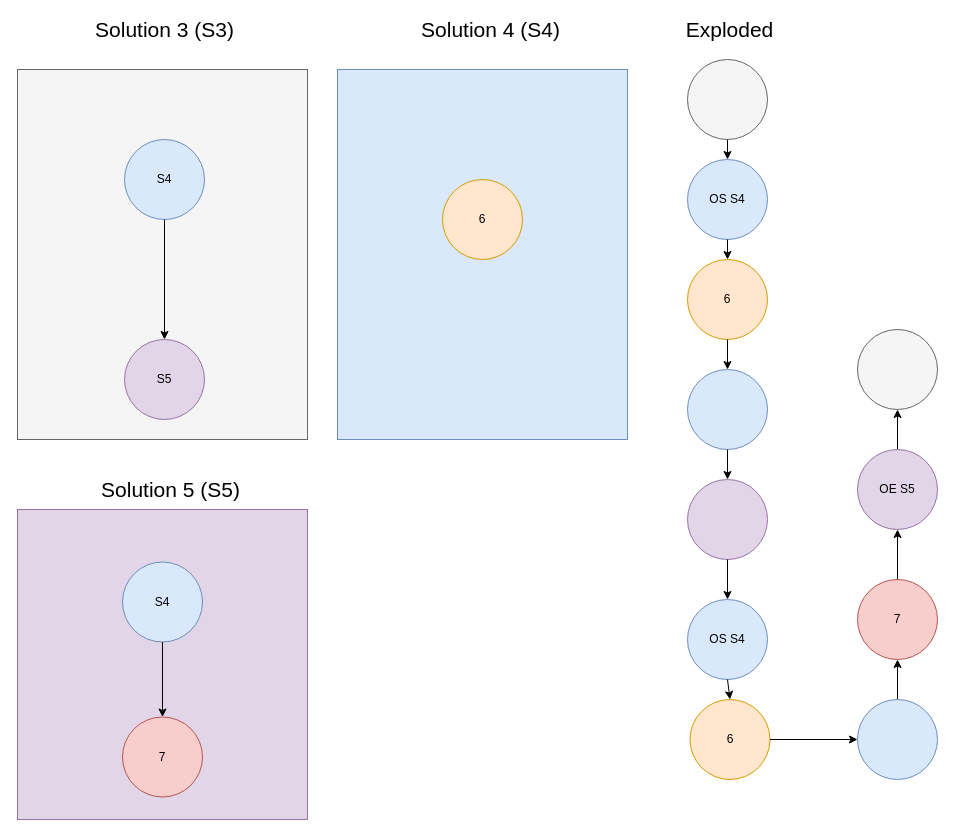
The diagram is 955 pixels wide and 837 high, and some of its shapes have lost their labels. The shapes that lost their labels are listed below. From the top down, each one's centre as x and y in pixels, then its label:
At pixel 727 99: "OS S3".
At pixel 897 369: "OE S3".
At pixel 727 409: "ES S4".
At pixel 727 519: "OS S5".
At pixel 897 739: "OE S4".
